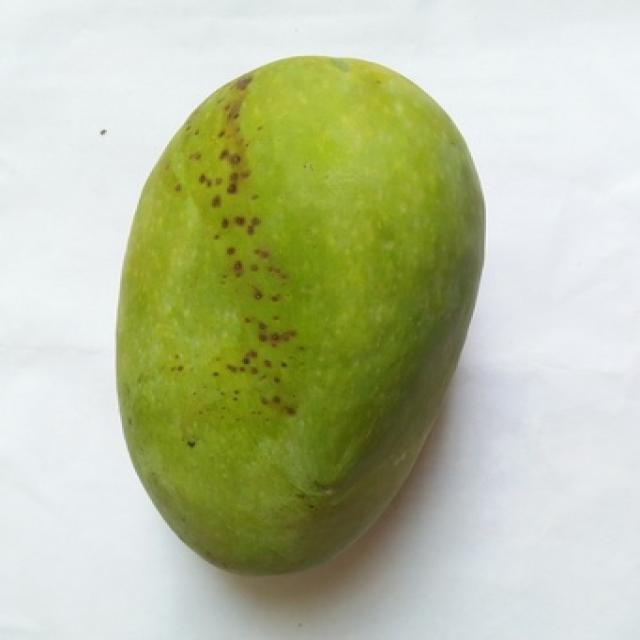Mango: (116, 56, 482, 572)
